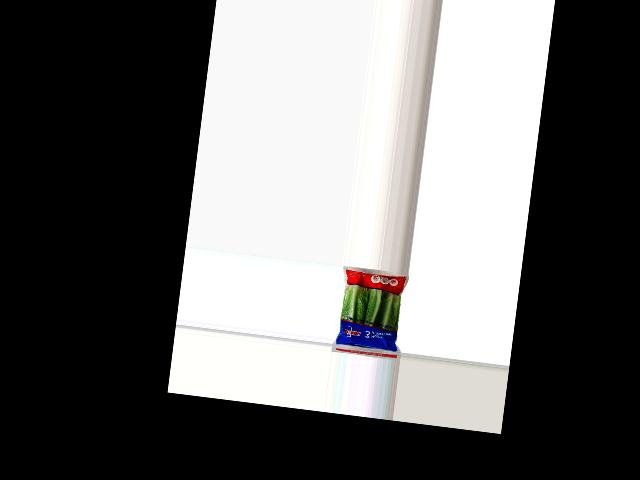lettuce: (335, 265, 407, 353)
